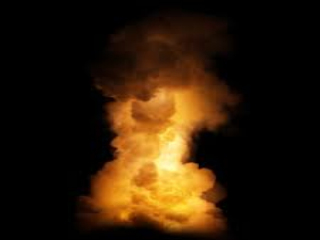smoke: (88, 28, 248, 235)
